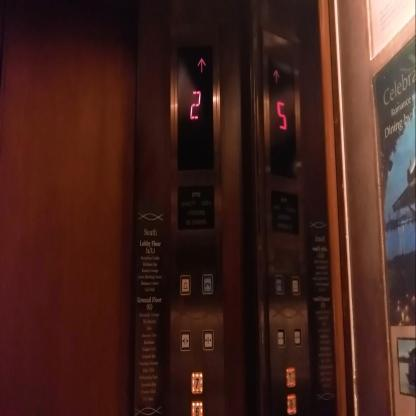6: (190, 398, 204, 416)
7: (190, 369, 204, 396)
alarm: (178, 272, 192, 296), (290, 274, 301, 298)
call: (201, 272, 214, 296), (273, 273, 284, 296)
close: (202, 326, 214, 352), (276, 326, 286, 349)
led: (175, 39, 215, 174), (266, 57, 297, 181)
open: (178, 328, 192, 352), (293, 326, 302, 347)
unknown: (284, 364, 296, 388), (286, 392, 297, 416)
